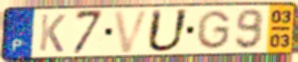7: (71, 9, 106, 57)
9: (233, 7, 266, 51)
G: (194, 9, 232, 51)
K: (37, 13, 67, 54)
U: (144, 8, 191, 54)
V: (111, 8, 152, 55)
